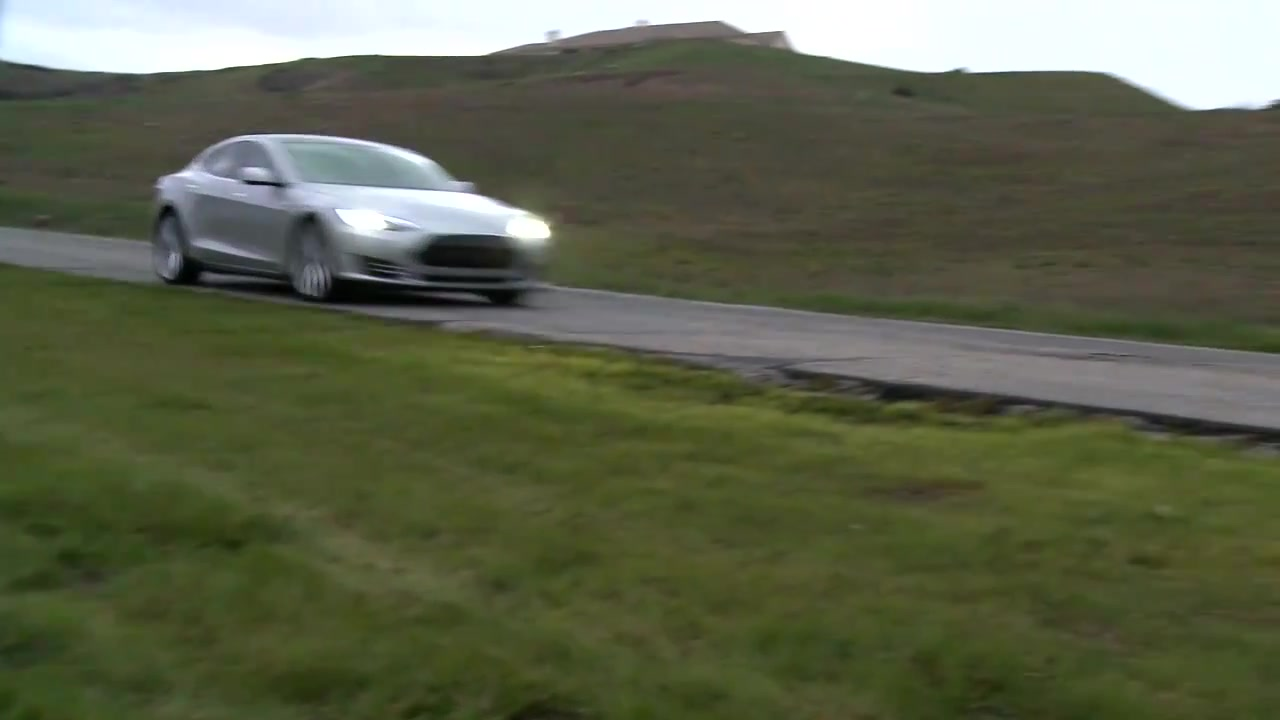car: (150, 130, 557, 311)
